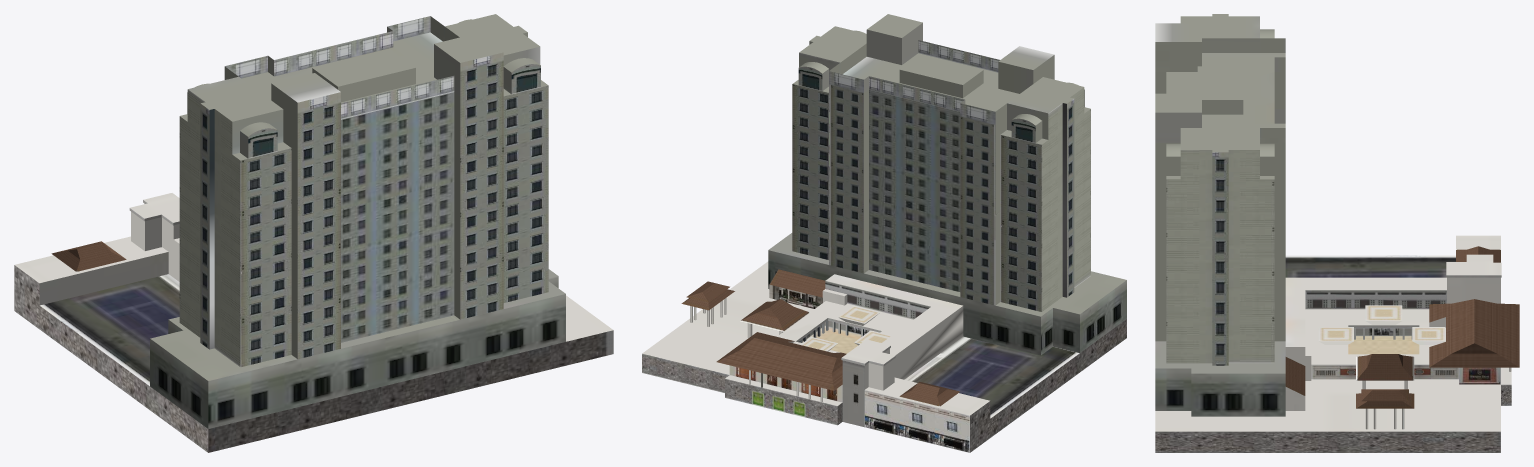
3 renders of one model, left to right at view 1: azimuth 30°, elevation 25°; view 2: azimuth 150°, elevation 25°; view 3: azimuth 270°, elevation 25°, orthographic. The views are drawn at different scales.
Visible parts, largest first — view 1: Sheraton_Hanoi; view 2: Sheraton_Hanoi; view 3: Sheraton_Hanoi.
Boxes of the visible parts, x1,y1,x2,y2 form: Sheraton_Hanoi: [14, 14, 613, 452]; Sheraton_Hanoi: [642, 14, 1126, 452]; Sheraton_Hanoi: [1155, 14, 1519, 452].
Size of the model in its own units: 92.1 by 71.31 by 80.47.
Materials: 1 (1 with a texture image).
